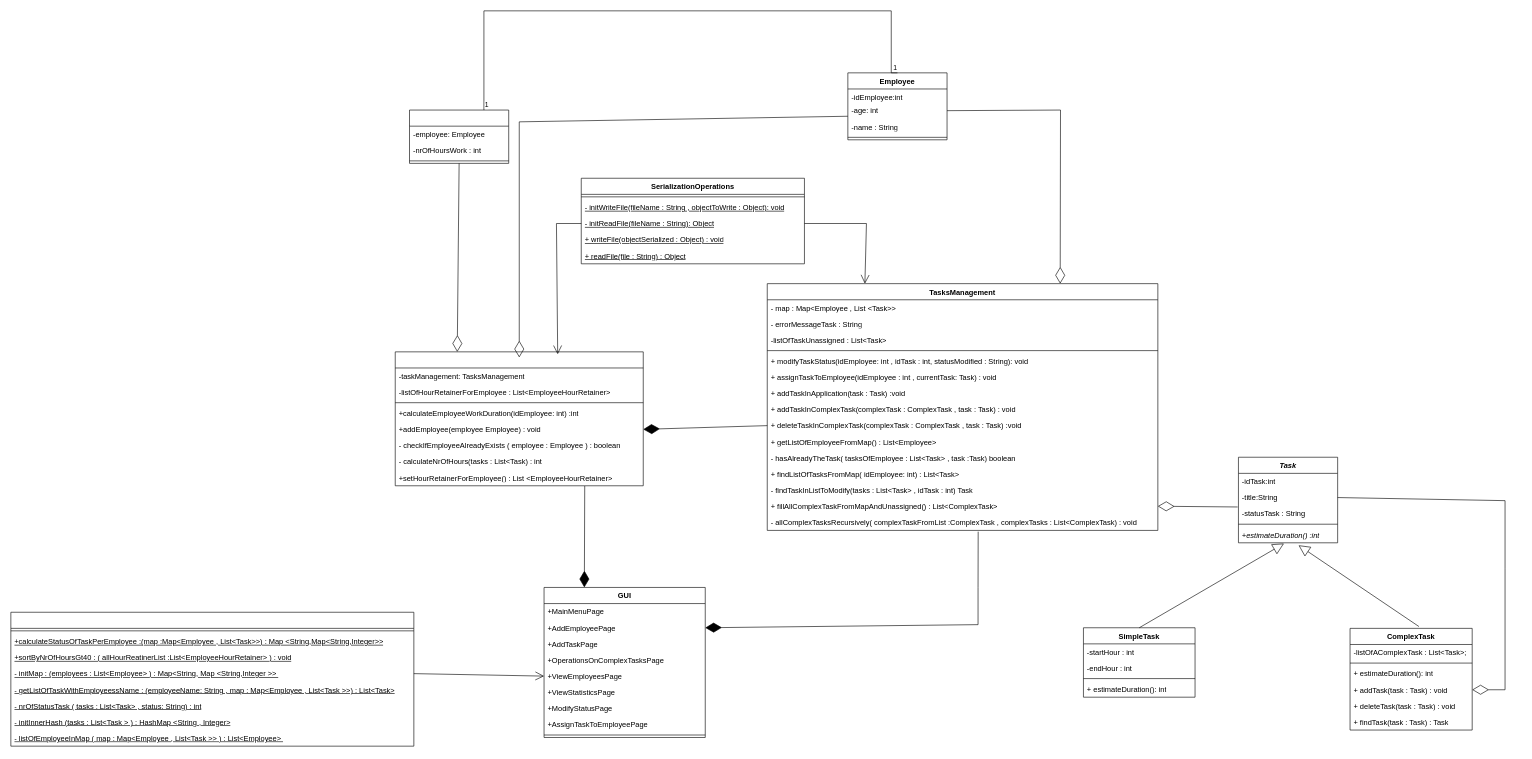
This 1532x759 diagram has some shape labels left out. The box of each missing label's shape, as (x1, y1, x2, y2) in pixels:
EmployeeHourRetainer: (409, 109, 509, 163)
EmployeesManagement: (395, 351, 643, 486)
Utility: (10, 612, 414, 746)
